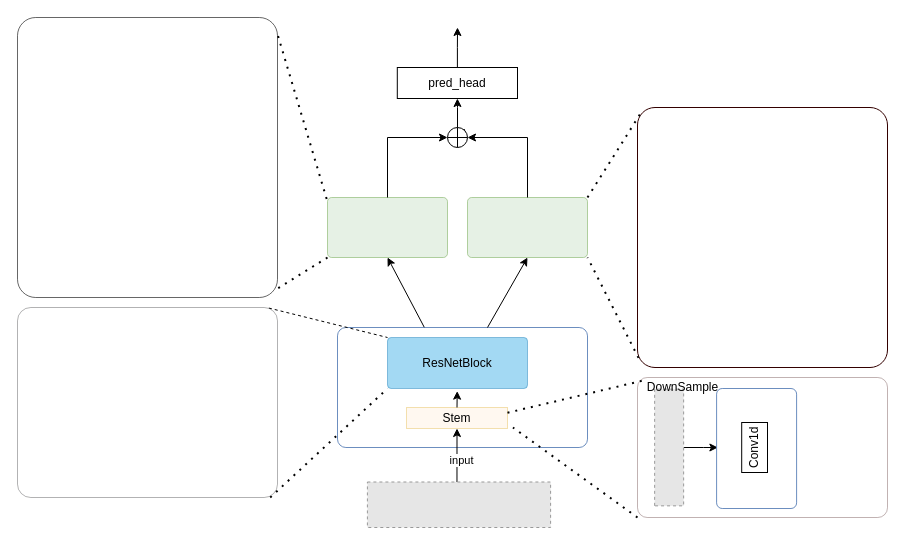
The diagram is 905 pixels wide and 545 high, and some of its shapes have lost their labels. Grey dashed boxes stand in for pictures. The centre of each missing label's shape, as x and y in pixels:
"global_branch" goes at pixel 387 227.
"local_branch" goes at pixel 527 227.
